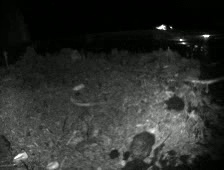corn: (12, 151, 30, 163), (44, 159, 61, 170), (72, 81, 86, 93)
